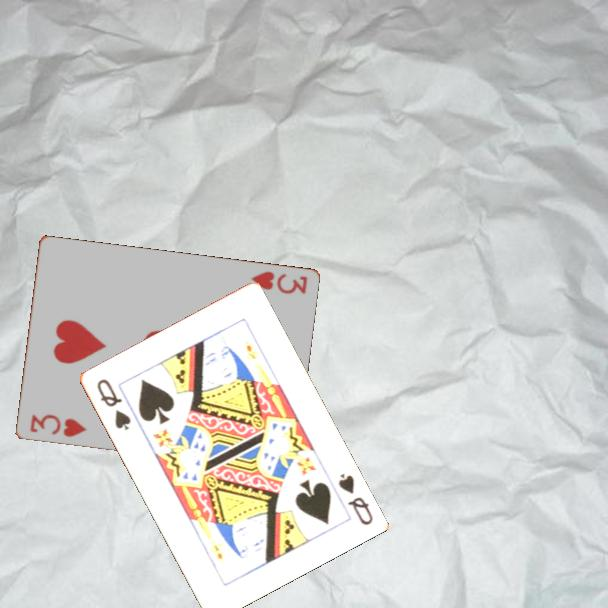h03: (26, 411, 89, 440), (247, 268, 310, 297)
s12: (334, 470, 376, 528), (93, 375, 133, 433)
